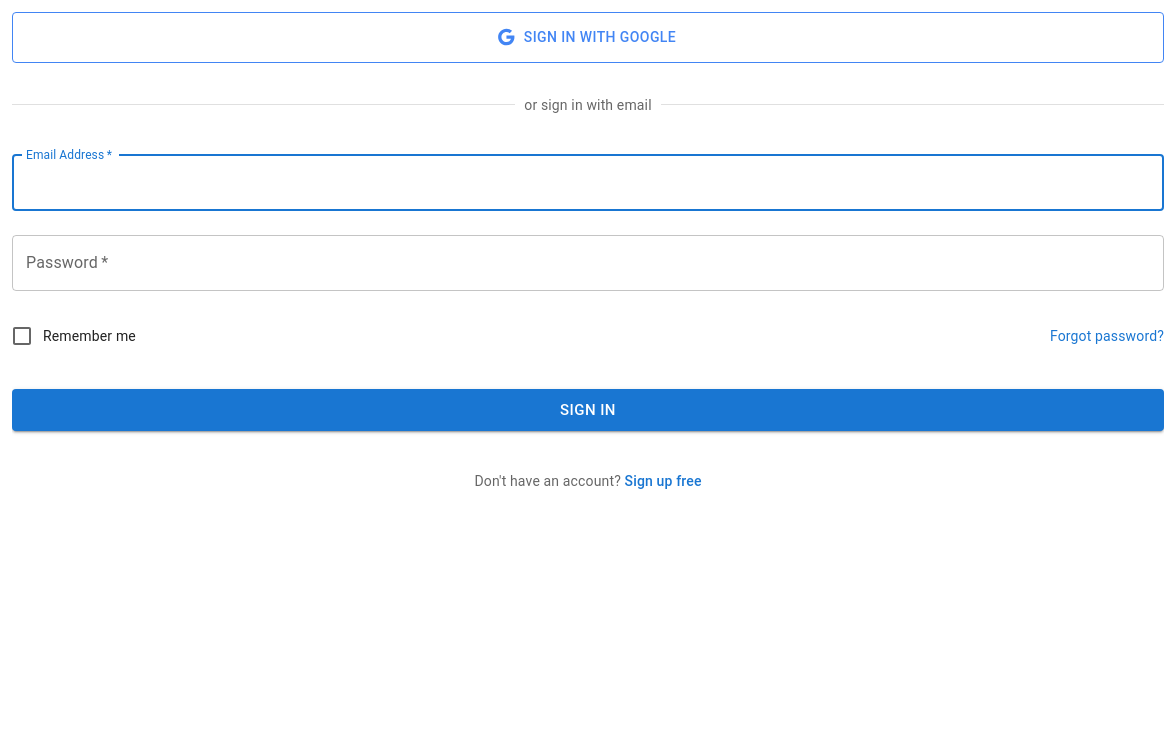
Test case: SignInForm Component › handles Google sign in errors
This screenshot has width=1176, height=732.
Click the button "Sign in with Google": (588, 37) x1=12 y1=12 x2=1164 y2=62
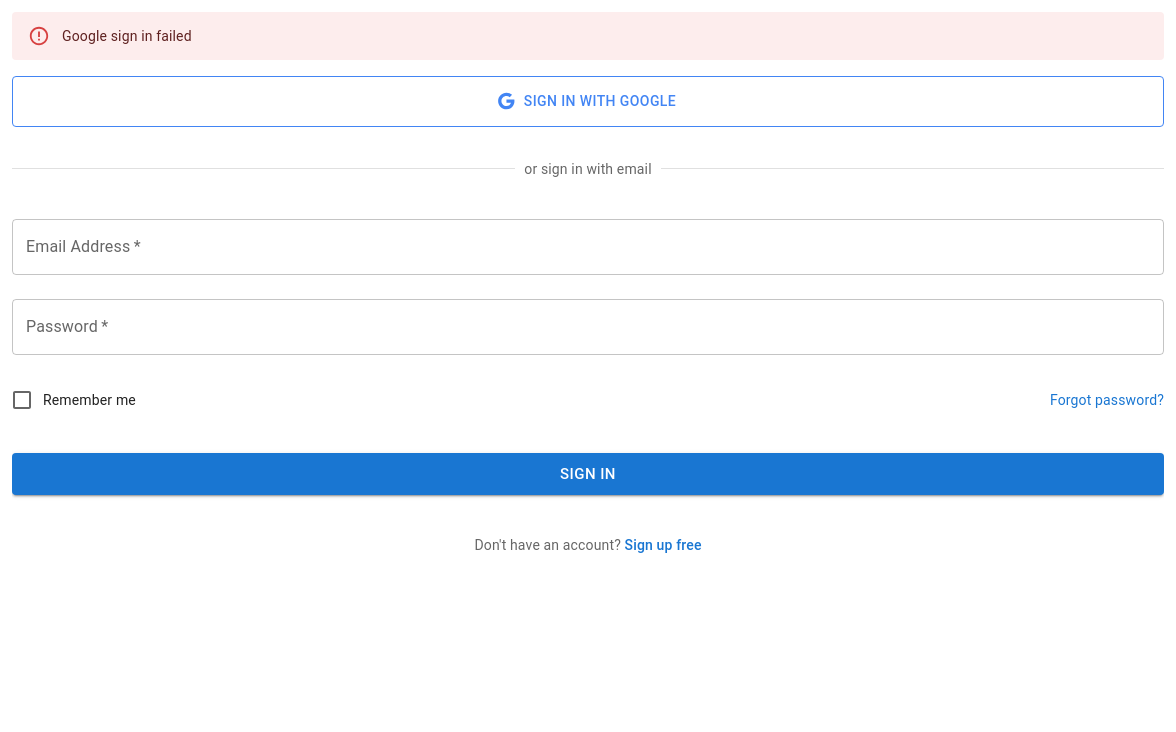
Now the message "Google sign in failed" is shown, box x1=12 y1=12 x2=1164 y2=60
Now the text "Google sign in failed" is shown, box x1=62 y1=28 x2=192 y2=44
